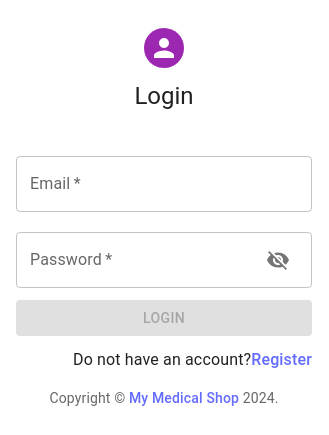
Login › Validation error when email is not valid
The image size is (329, 435).
In the field with test id "login-email": (164, 184) [16,156,312,212], type "koomalai"
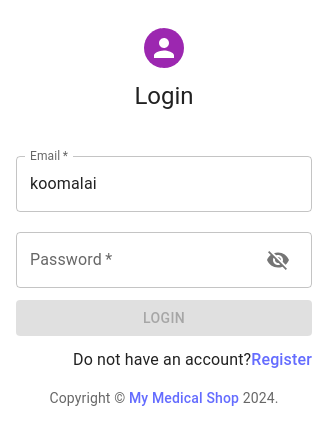
Leave the field with test id "login-email", box [16,156,312,212]
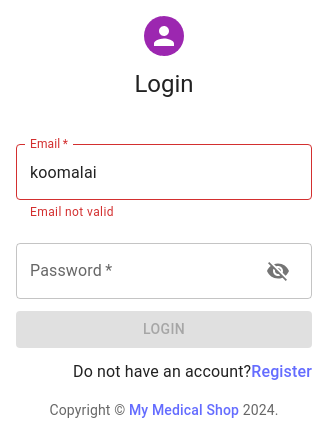
Expected: the button "Login" is disabled, [16,311,312,348]
Expected: the text "Email not valid" is shown, [30,205,114,219]
